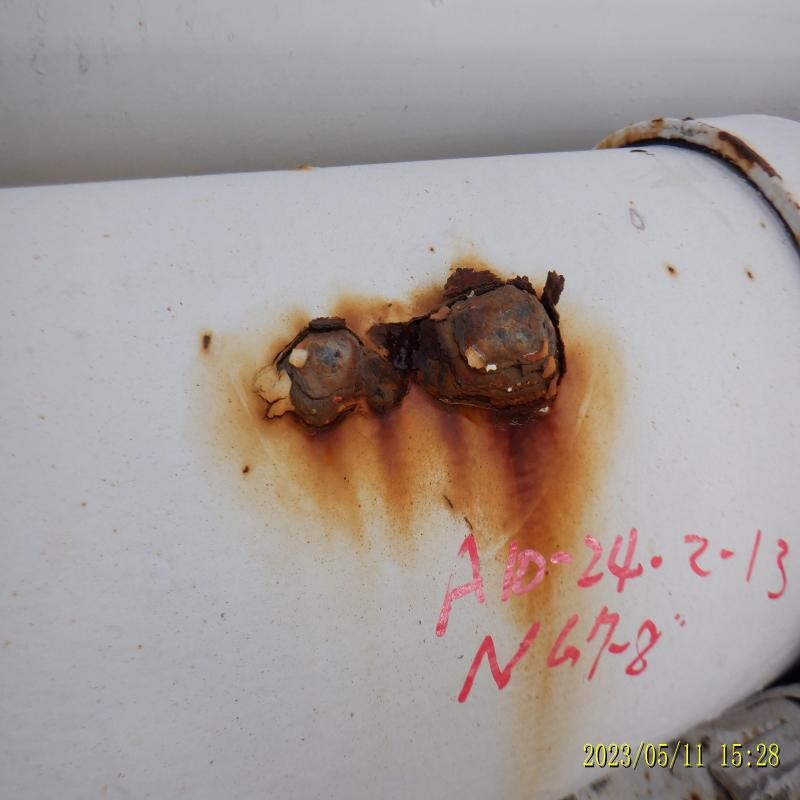corrosion: (266, 280, 570, 461)
